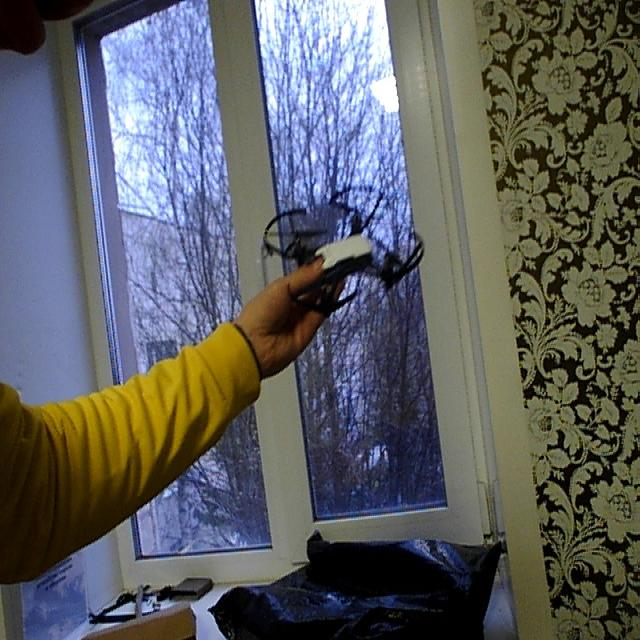drone: (256, 175, 439, 322)
